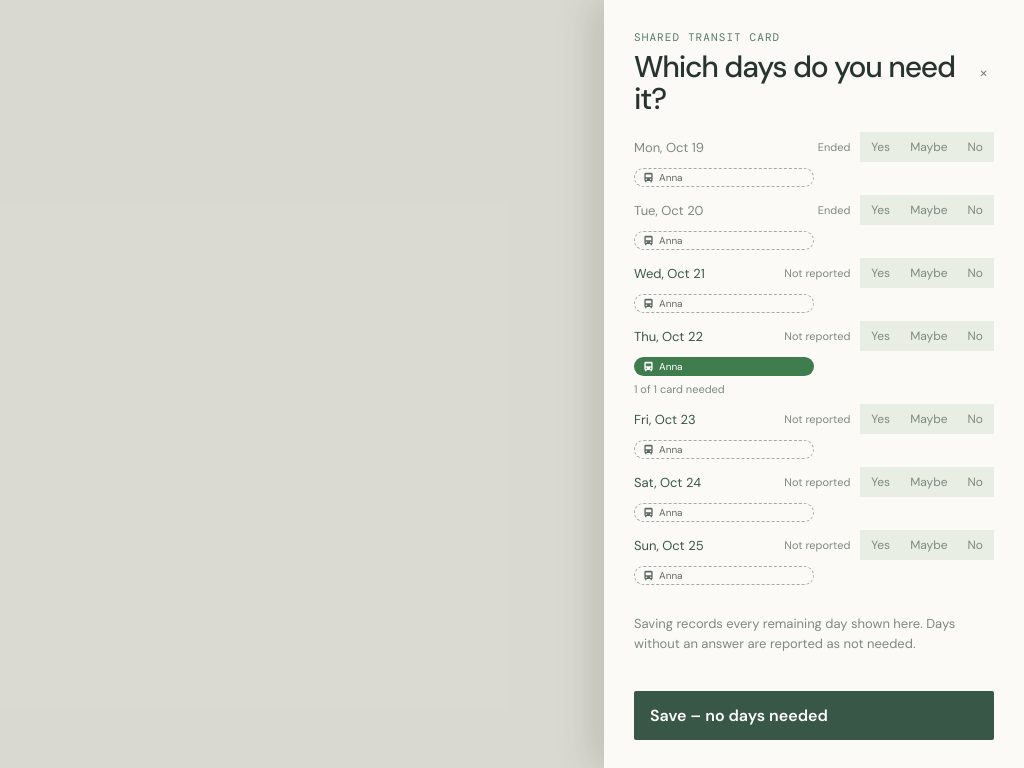
Test: TransitCardDrawer with a household › shows other members' answers and warns before overbooking
Expected: the element with class "resolved" reads "Anna", [659,360,683,373]
Expected: the element "Thu, Oct 22" shows "1 of 1 card needed", [634,382,725,396]
Click the button "Yes" in the row of "Thu, Oct 22". click: {"x": 881, "y": 336}
box: [862,323,899,349]
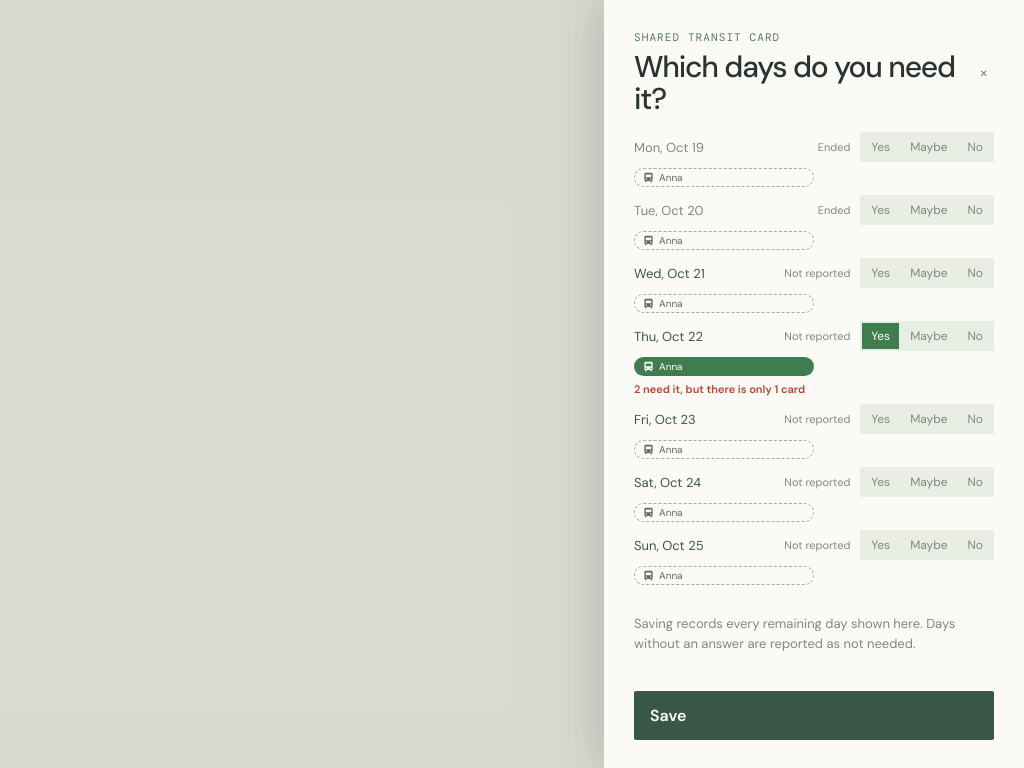
Result: the message reads "2 need it, but there is only 1 card" at [634,382,805,396]
